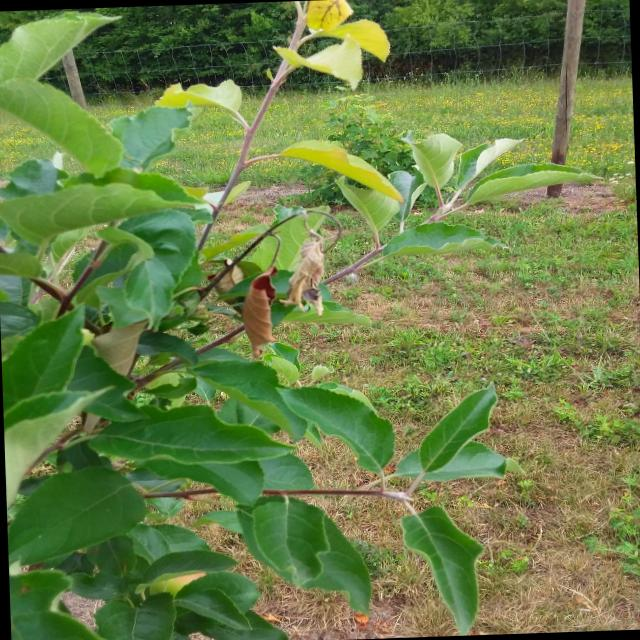-FireBlight-: (236, 220, 351, 344)
